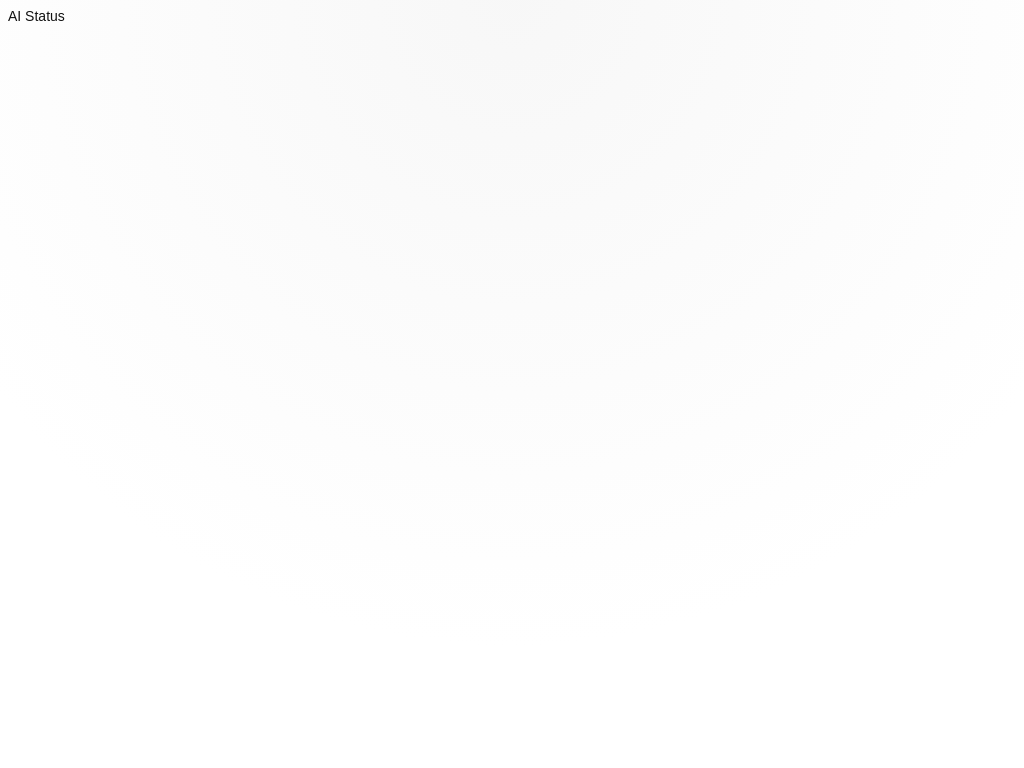
AiStatusDialog Component - Continuous Canary & Invariant Validation › renders the trigger button and opens dialog with Canary tab available
Click the button "AI Status": (36, 16) [0,0,73,32]
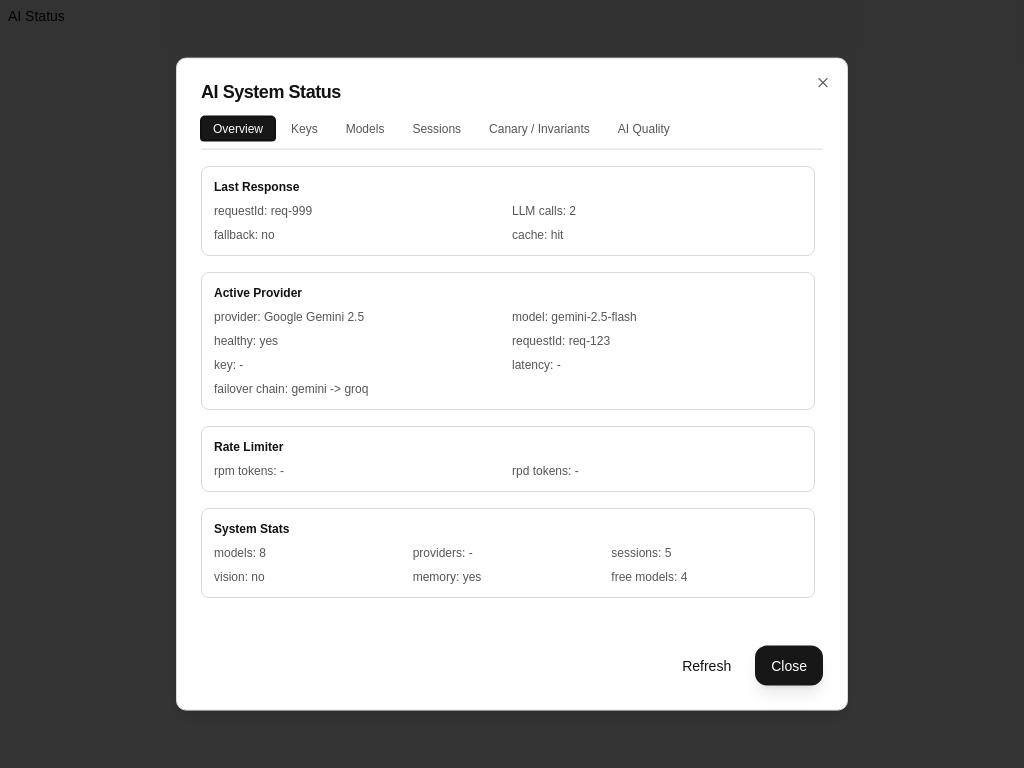
Check: the heading "AI System Status" is shown, box [201,82,341,102]
Check: the button with test id "tab-canary" reads "Canary / Invariants", box [477,117,602,141]
